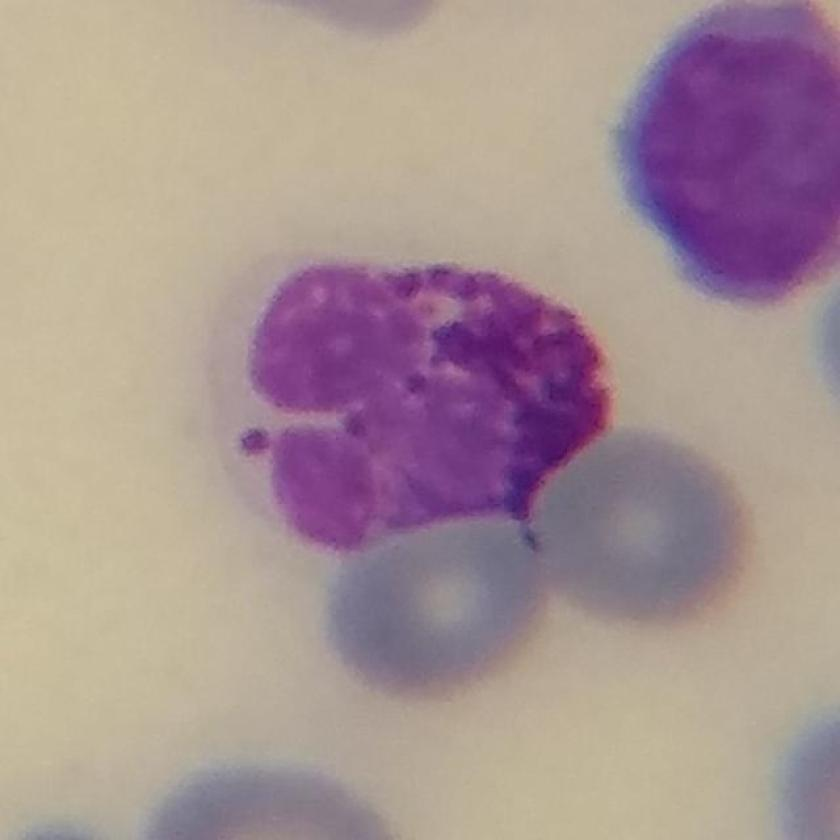basophil: (190, 216, 634, 572)
